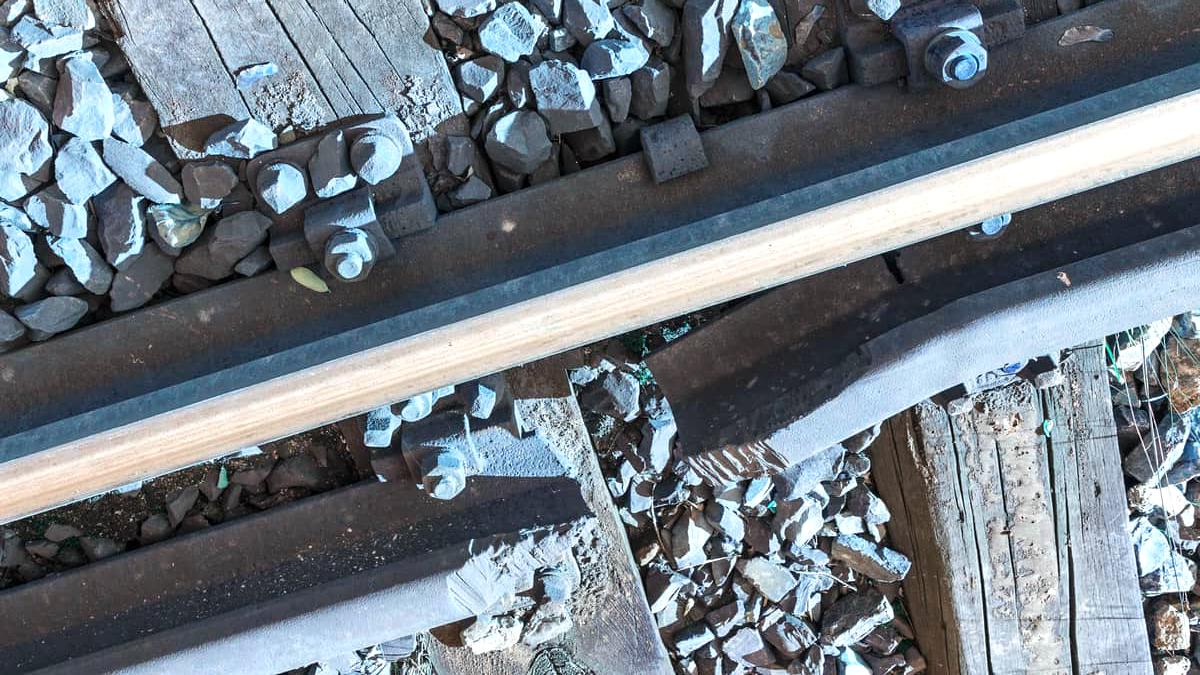duan lie: (452, 337, 802, 615)
